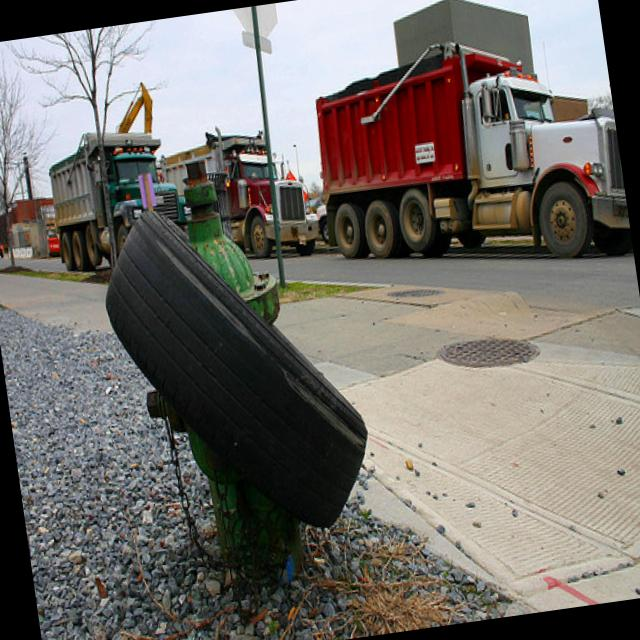Vehicle: (308, 17, 632, 286), (158, 127, 324, 275), (43, 122, 192, 274), (0, 238, 5, 260)
